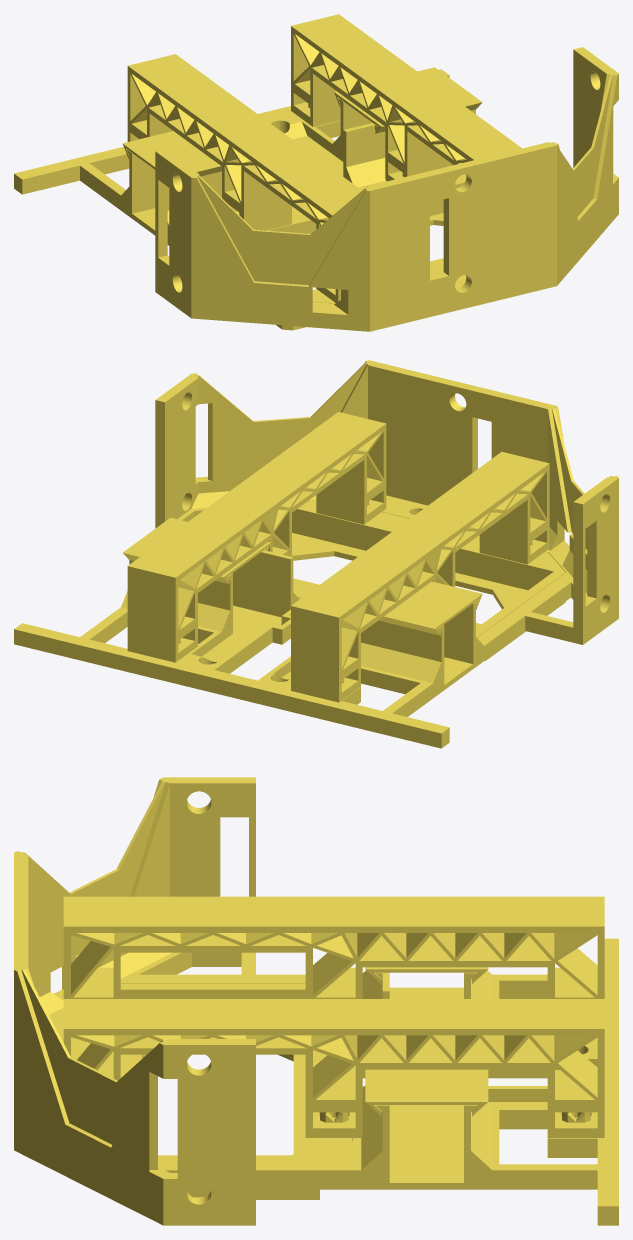
Rendered from micromouse-case.glb.
3 views of the same model, one above another, from view 1: azimuth 30°, elevation 25°; view 2: azimuth 150°, elevation 25°; view 3: azimuth 270°, elevation 25° (orthographic). The views are drawn at different scales.
Size of the model in its own units: 0.089 by 0.031 by 0.085.
